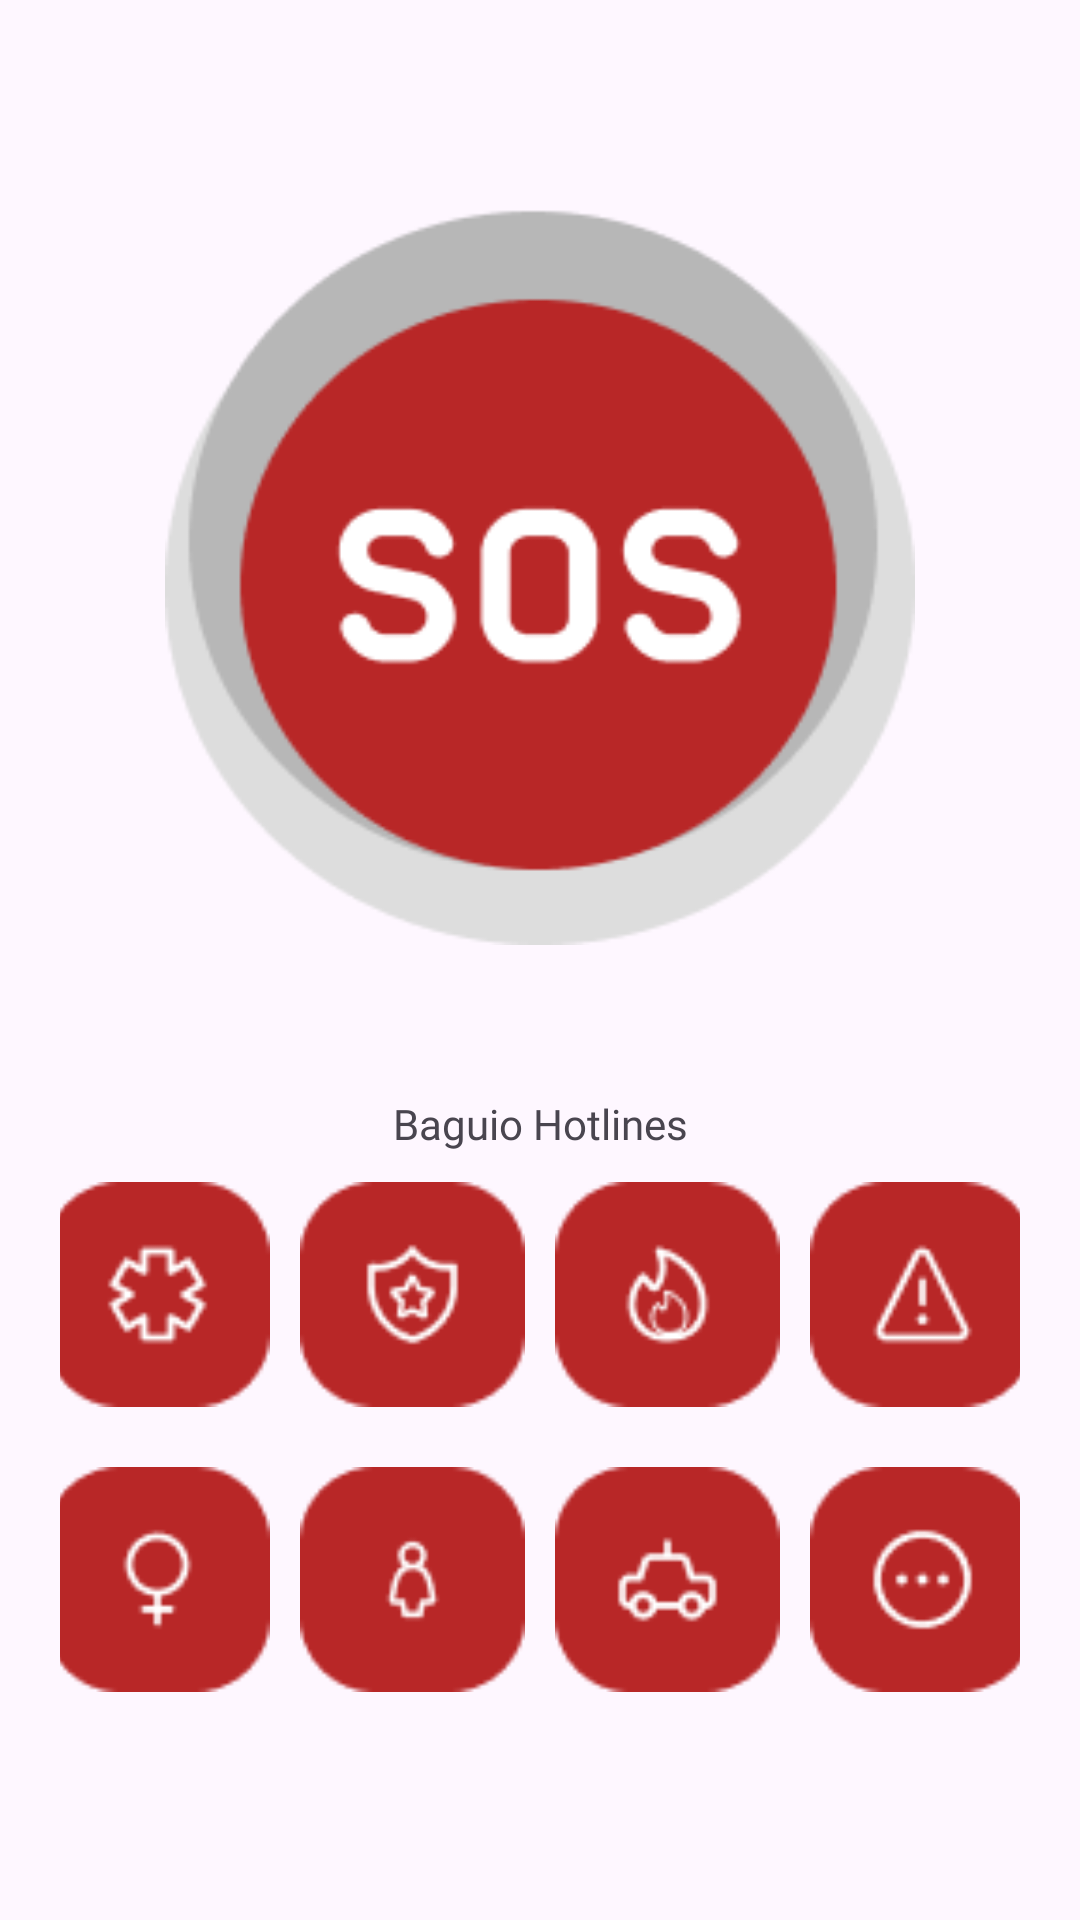

Screen size 1080px×1920px. Icon name, then its center in pixels as (x=x, y=y):
children: (x=412, y=1579)
disaster: (x=915, y=1294)
fire: (x=667, y=1294)
medical: (x=165, y=1294)
misc: (x=915, y=1579)
police: (x=412, y=1294)
transport: (x=667, y=1579)
women: (x=165, y=1579)
